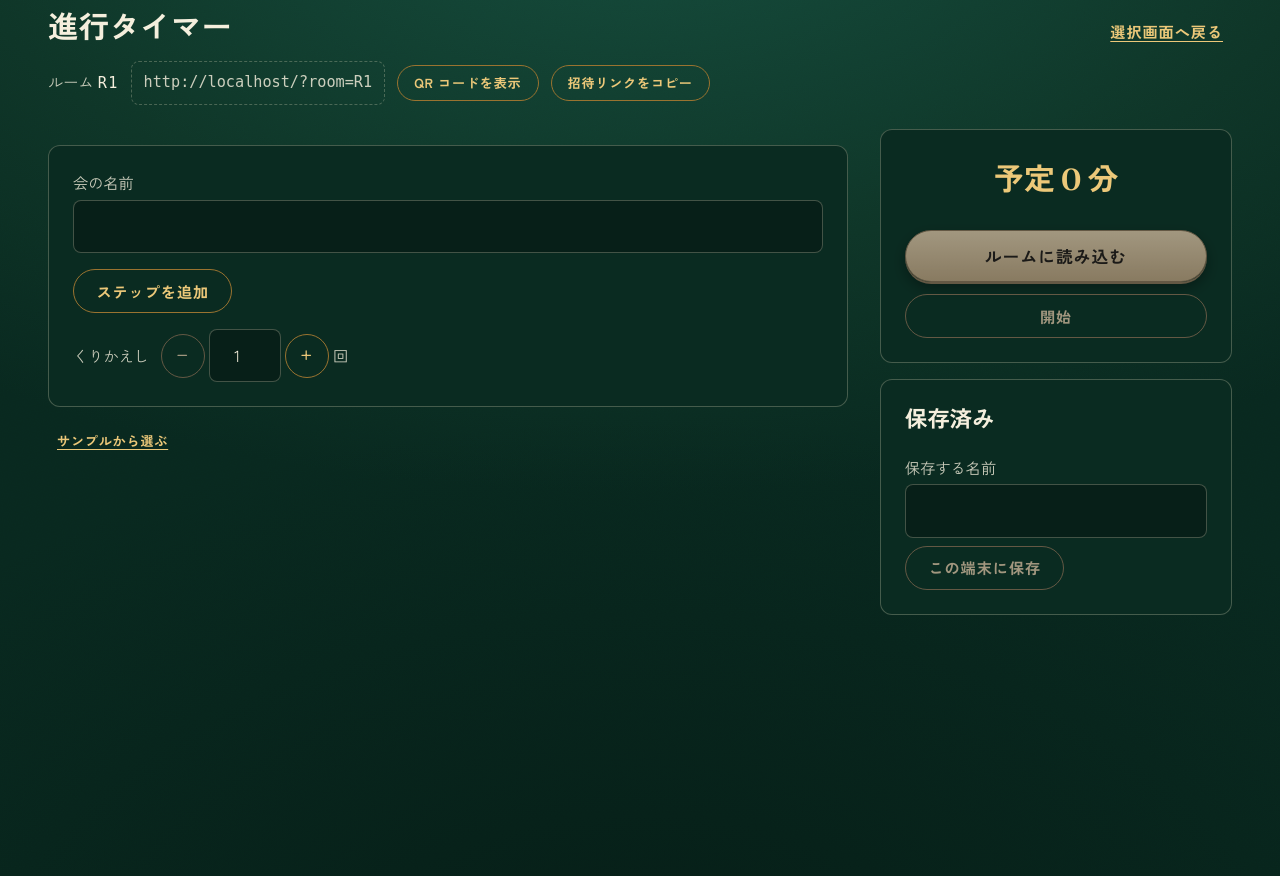
Test case: 組む画面 › Given ルームも下書きも空 / When サンプルを押す / Then 5 行・合計 60 分になる
The image size is (1280, 876).
What coordinates should you click on to do the following:
click the button "サンプルから選ぶ"
I would click on:
 (113, 441)
Its box is [48,423,177,459].
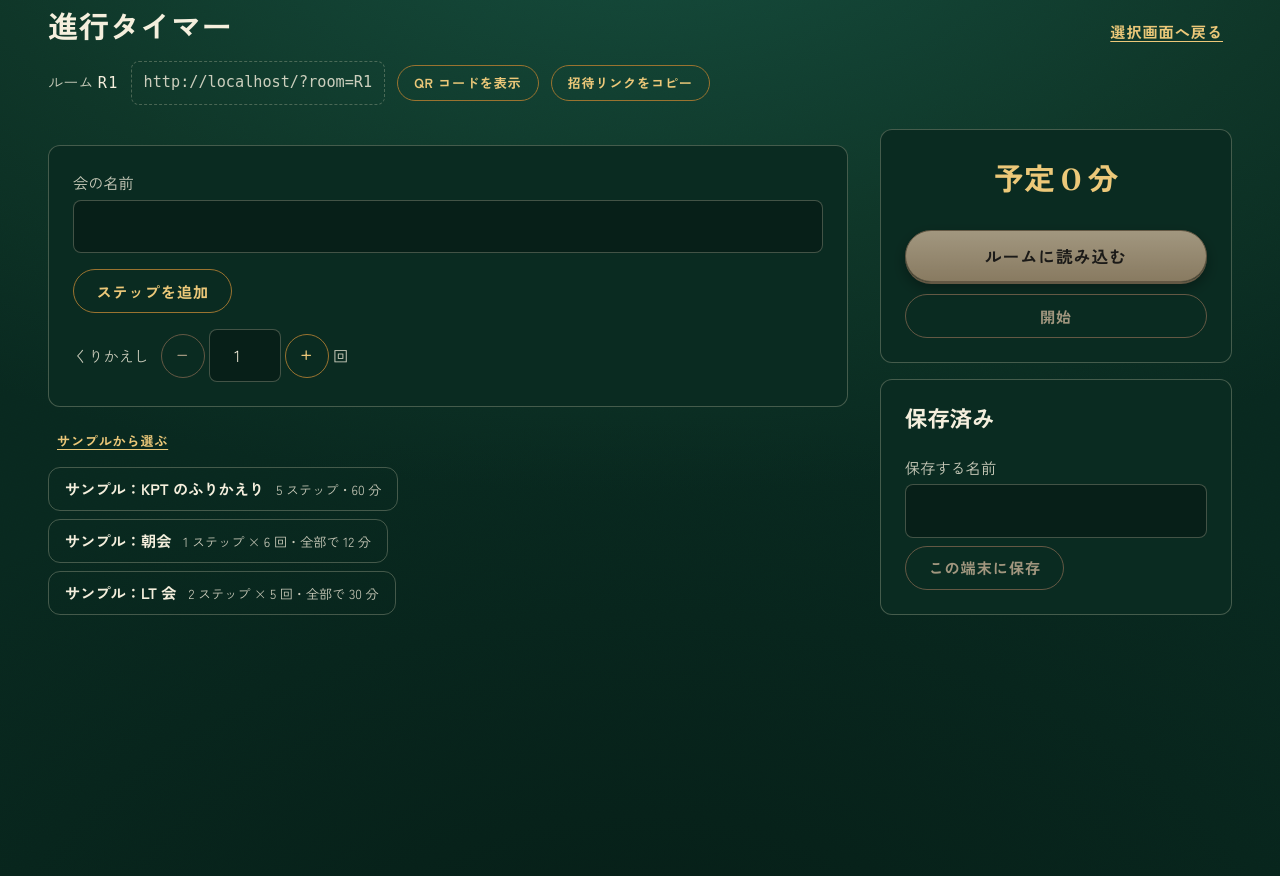
What coordinates should you click on to do the following:
click the button "サンプル：KPT のふりかえり 5 ステップ・60 分"
I would click on:
 (223, 489)
Its box is [48,467,398,511].
(page scrolled)
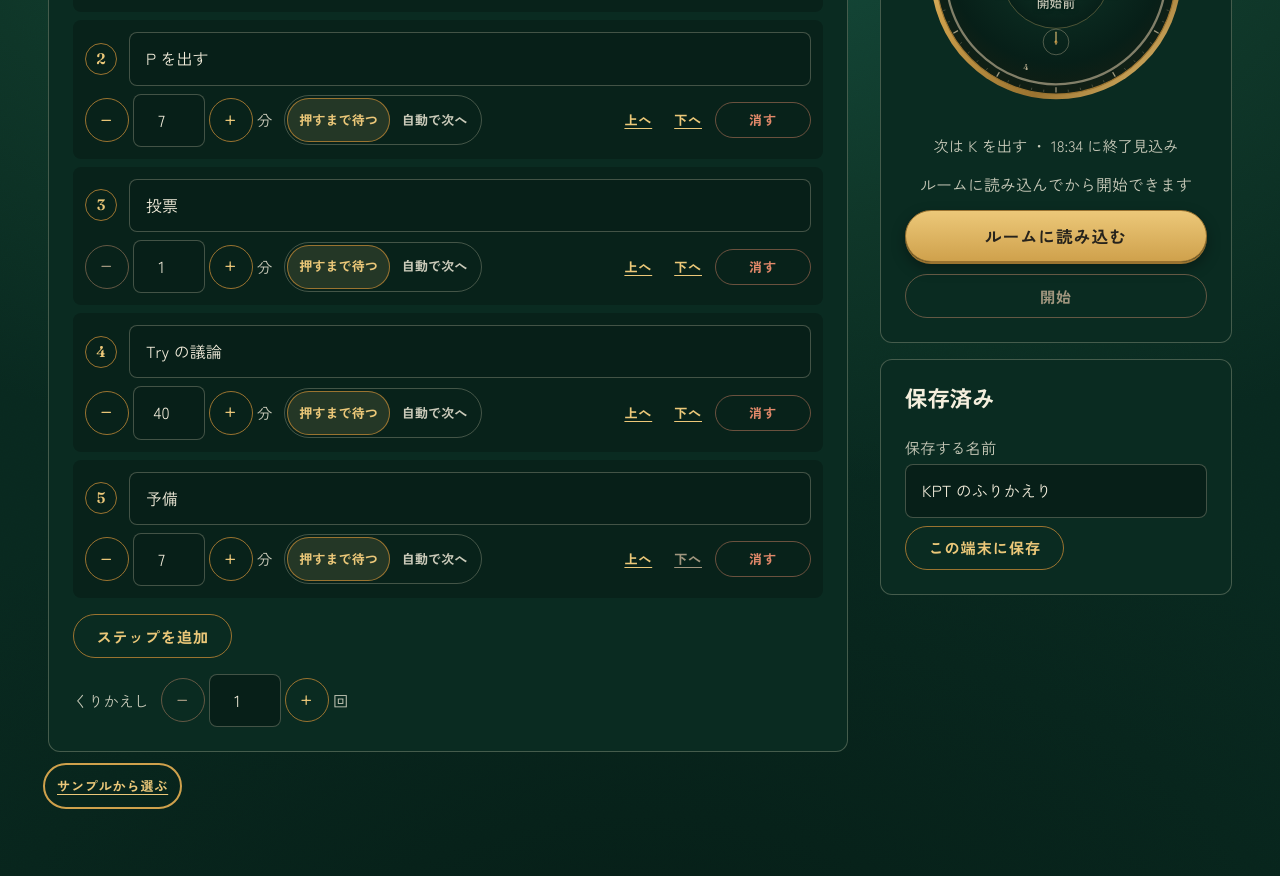
Expected: the button "サンプルから選ぶ" is collapsed, [48,768,177,804]
